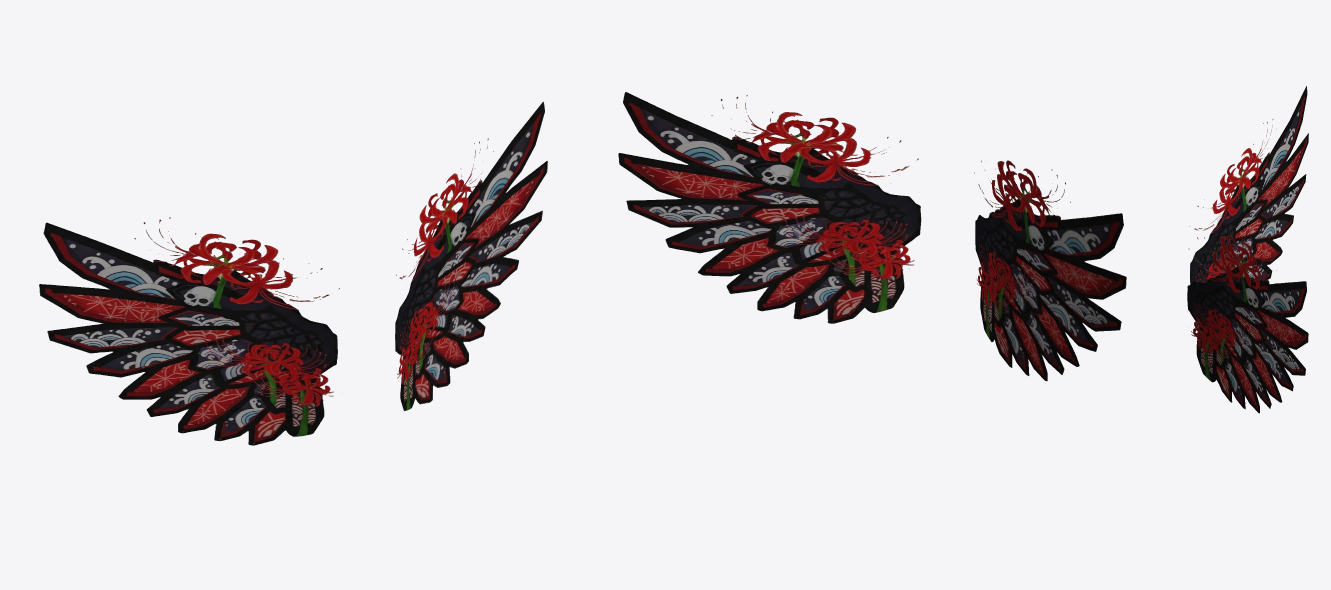
File: canh 11.fbx
3 views of the same model, side by side, from view 1: azimuth 30°, elevation 25°; view 2: azimuth 150°, elevation 25°; view 3: azimuth 270°, elevation 25° (orthographic). The views are drawn at different scales.
Visible parts, largest first — view 1: 11; view 2: 11; view 3: 11.
Part boxes in pixels (left/top/right/bottom): 11: left=39, top=101, right=547, bottom=445; 11: left=618, top=92, right=1126, bottom=381; 11: left=1187, top=86, right=1308, bottom=413.
Size of the model in its own units: 1.51 by 1.12 by 0.4307.
